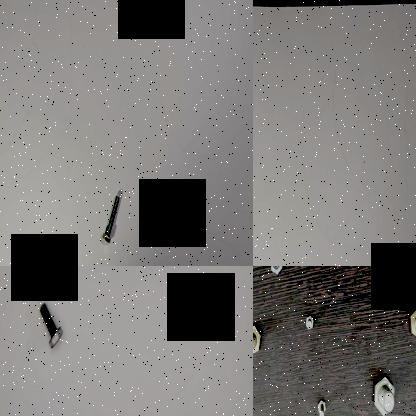Bolts: (36, 294, 66, 352), (367, 363, 397, 416), (97, 190, 123, 246), (313, 389, 333, 416), (406, 296, 416, 345), (253, 316, 261, 362), (262, 266, 286, 278), (304, 314, 317, 336), (383, 266, 399, 279)
